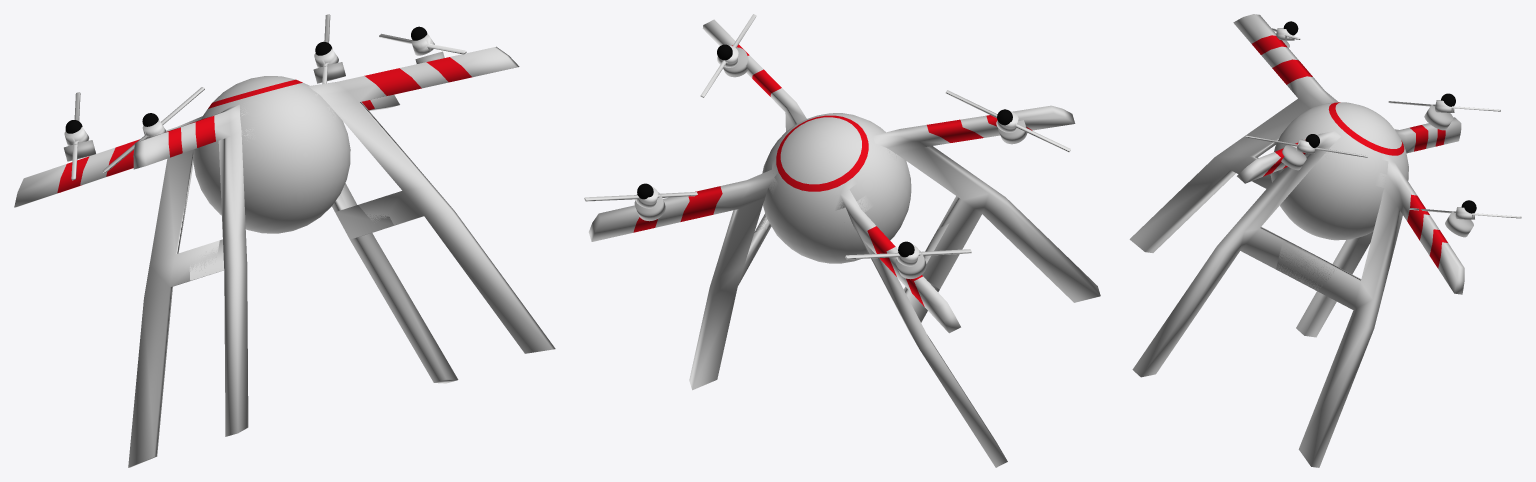
The model's file is meme_drone.glb.
3 renders of one model, left to right at view 1: azimuth 30°, elevation 25°; view 2: azimuth 150°, elevation 25°; view 3: azimuth 270°, elevation 25°, orthographic. The views are drawn at different scales.
Parts seen in each view (by area): view 1: Sphere.001, Cylinder.019, Cylinder.016, Cylinder.018; view 2: Sphere.001, Cylinder.018, Cylinder.019, Cylinder.022, Cylinder.016; view 3: Sphere.001, Cylinder.016, Cylinder.017, Cylinder.023, Cylinder.015, Cylinder.018, Cylinder.022.
Boxes of the visible parts, <box> form: Sphere.001: <box>14,46,555,467</box>; Cylinder.019: <box>102,87,204,173</box>; Cylinder.016: <box>379,33,466,55</box>; Cylinder.018: <box>64,92,89,180</box>; Sphere.001: <box>588,19,1100,467</box>; Cylinder.018: <box>845,245,971,266</box>; Cylinder.019: <box>945,90,1070,152</box>; Cylinder.022: <box>584,187,697,208</box>; Cylinder.016: <box>700,14,756,97</box>; Sphere.001: <box>1129,14,1464,467</box>; Cylinder.016: <box>1245,135,1367,157</box>; Cylinder.017: <box>1424,104,1453,130</box>; Cylinder.023: <box>1445,211,1473,237</box>; Cylinder.015: <box>1281,145,1306,170</box>; Cylinder.018: <box>1388,100,1500,112</box>; Cylinder.022: <box>1409,207,1521,219</box>.
Bounding box in the file's own units: 0.2387 × 0.2131 × 0.2312.
6 materials, 2 textured.
